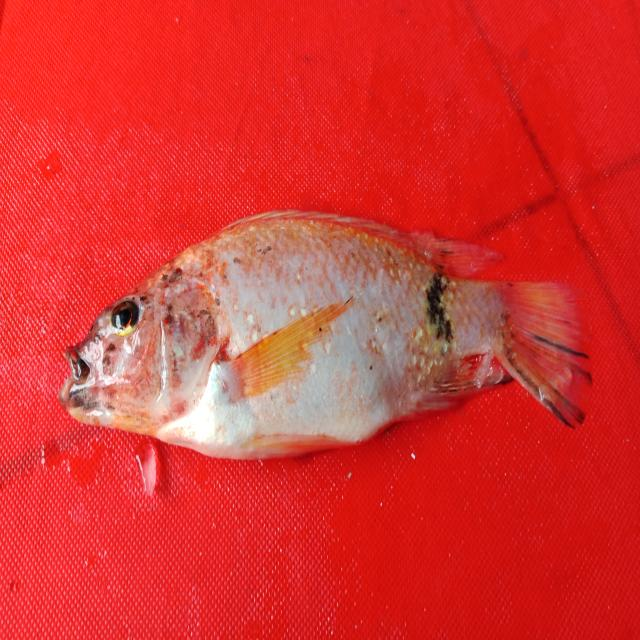ikan: (52, 185, 608, 478)
